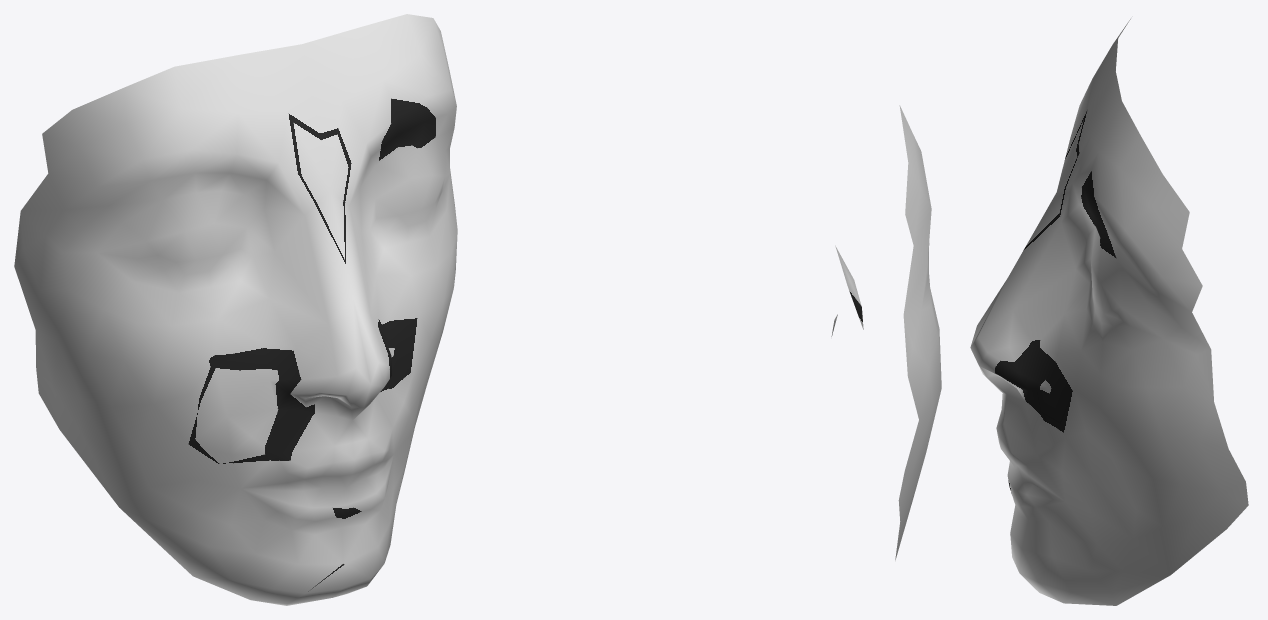
File: cgalref_nefertiti_cgal_authalic_result.glb
3 views of the same model, side by side, from view 1: azimuth 30°, elevation 25°; view 2: azimuth 150°, elevation 25°; view 3: azimuth 270°, elevation 25° (orthographic). The views are drawn at different scales.
Parts seen in each view (by area): view 1: parameterized; view 2: parameterized; view 3: parameterized.
Boxes of the visible parts, left/top/right/bottom form: parameterized: left=14, top=14, right=457, bottom=605; parameterized: left=831, top=105, right=941, bottom=560; parameterized: left=970, top=19, right=1248, bottom=605.
Size of the model in its own units: 80.29 by 100 by 48.94.
Materials: 1 (1 with a texture image).
